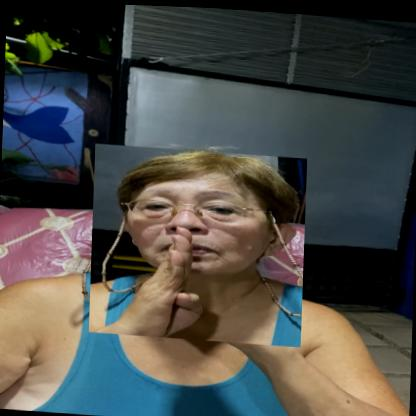Talk: (89, 143, 307, 345)
